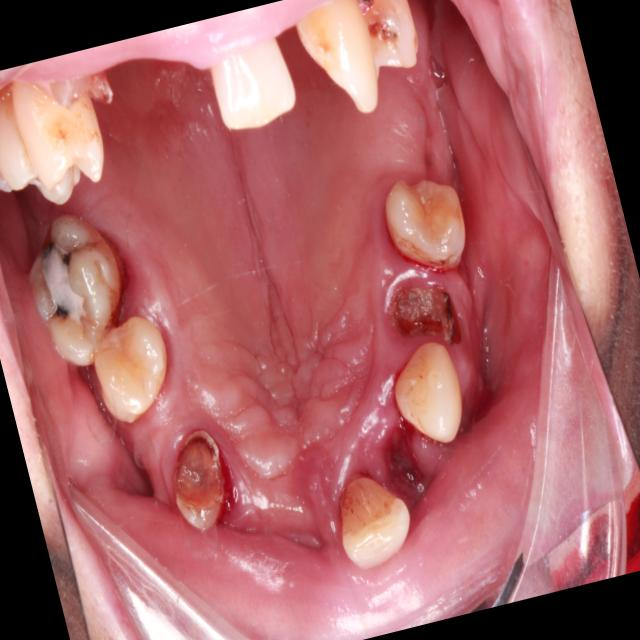tooth: (4, 192, 150, 383), (362, 143, 483, 293), (73, 306, 191, 439), (374, 328, 480, 459), (322, 454, 427, 585), (149, 416, 246, 546), (376, 257, 482, 366)
